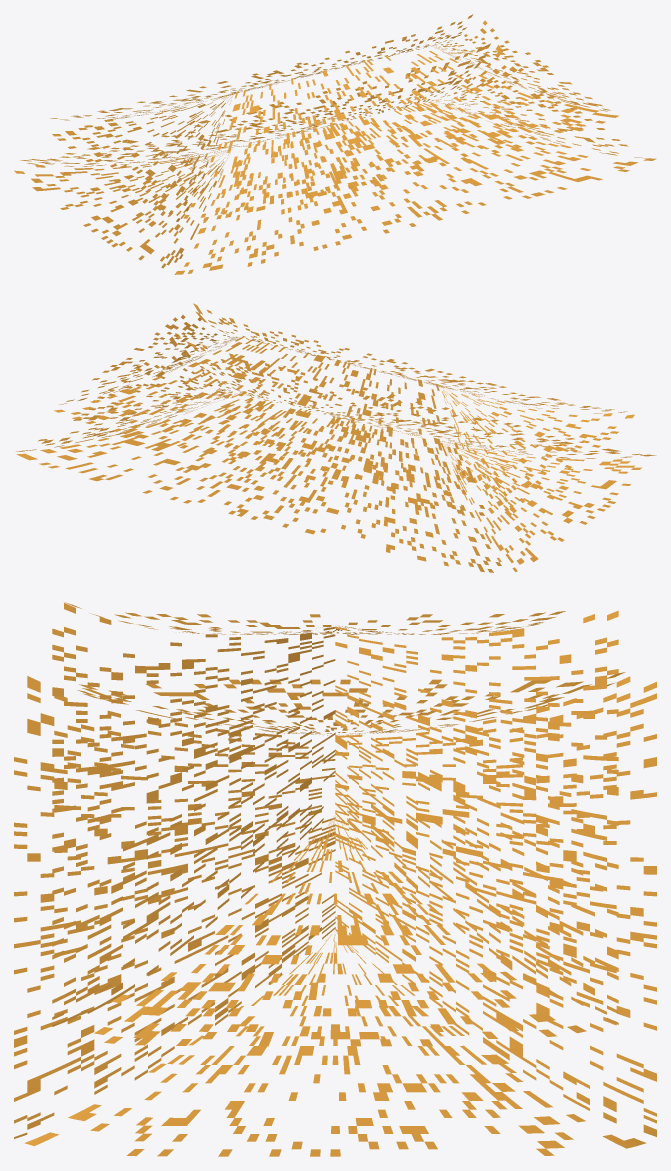
Rendered from SM_16_tile2.fbx.
The picture shows the model from 3 angles, top to bottom: view 1: azimuth 30°, elevation 25°; view 2: azimuth 150°, elevation 25°; view 3: azimuth 270°, elevation 25°; orthographic projection. The views are drawn at different scales.
Parts seen in each view (by area): view 1: tile2; view 2: tile2; view 3: tile2.
Part boxes in pixels (box(x1,y1,x2,y2)): tile2: box(14, 14, 656, 274); tile2: box(16, 303, 656, 572); tile2: box(14, 602, 656, 1156).
Bounding box in the file's own units: 5300 × 3020 × 1030.
